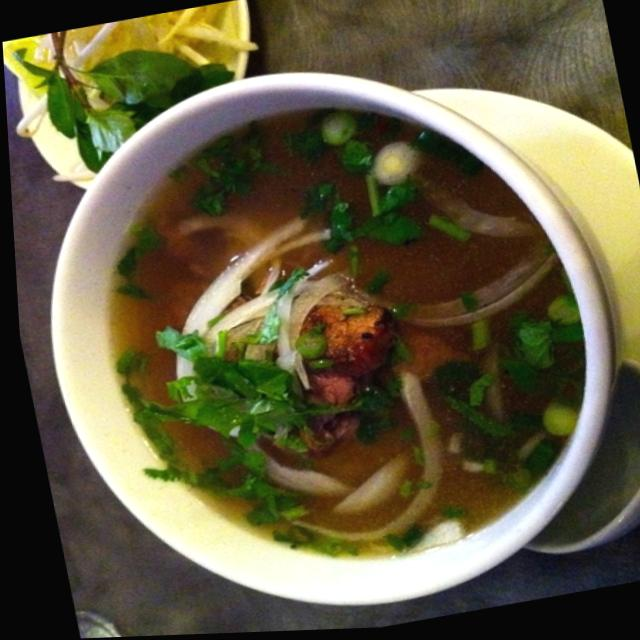面条主食: (2, 20, 640, 640)
